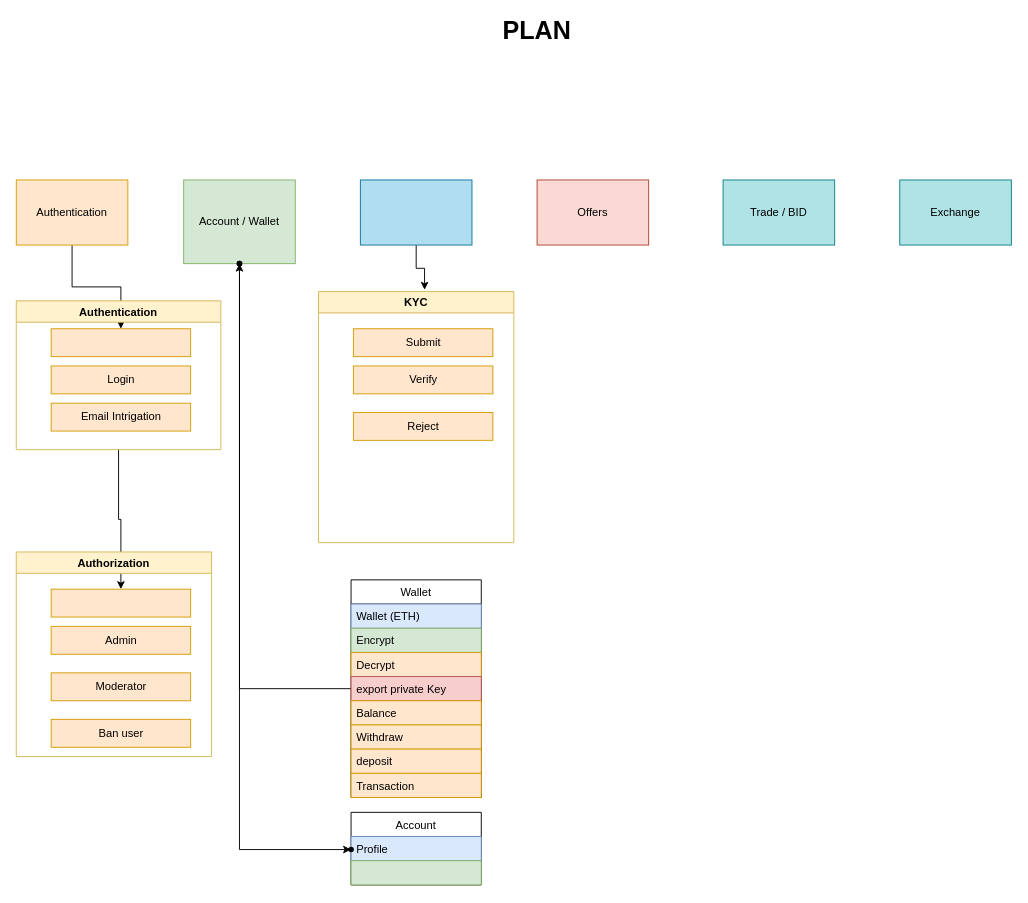
Some shapes in this 1028 by 903 pixel diagram are drawn without their labels. The centre of each missing label's shape, as x and y in pixels:
"KYC/ AML" belongs at (415,212).
"Role Change" belongs at (120,602).
"Sign up" belongs at (120,342).
"Update Profile" belongs at (415,872).
